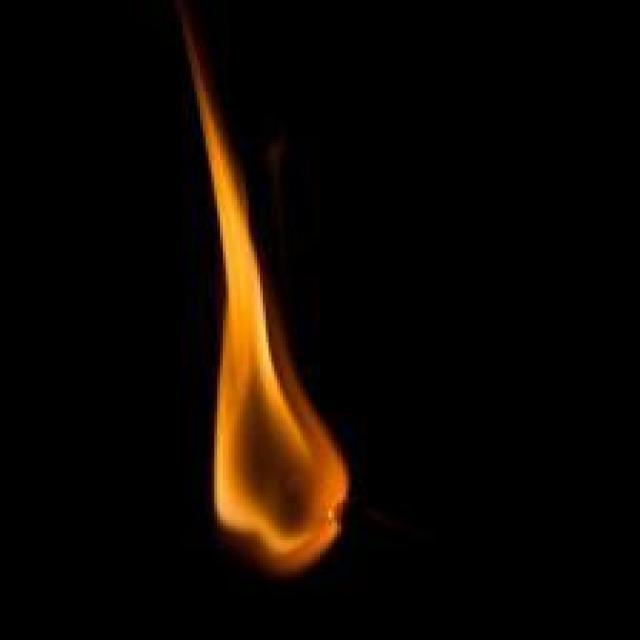Fire: (176, 17, 349, 575)
